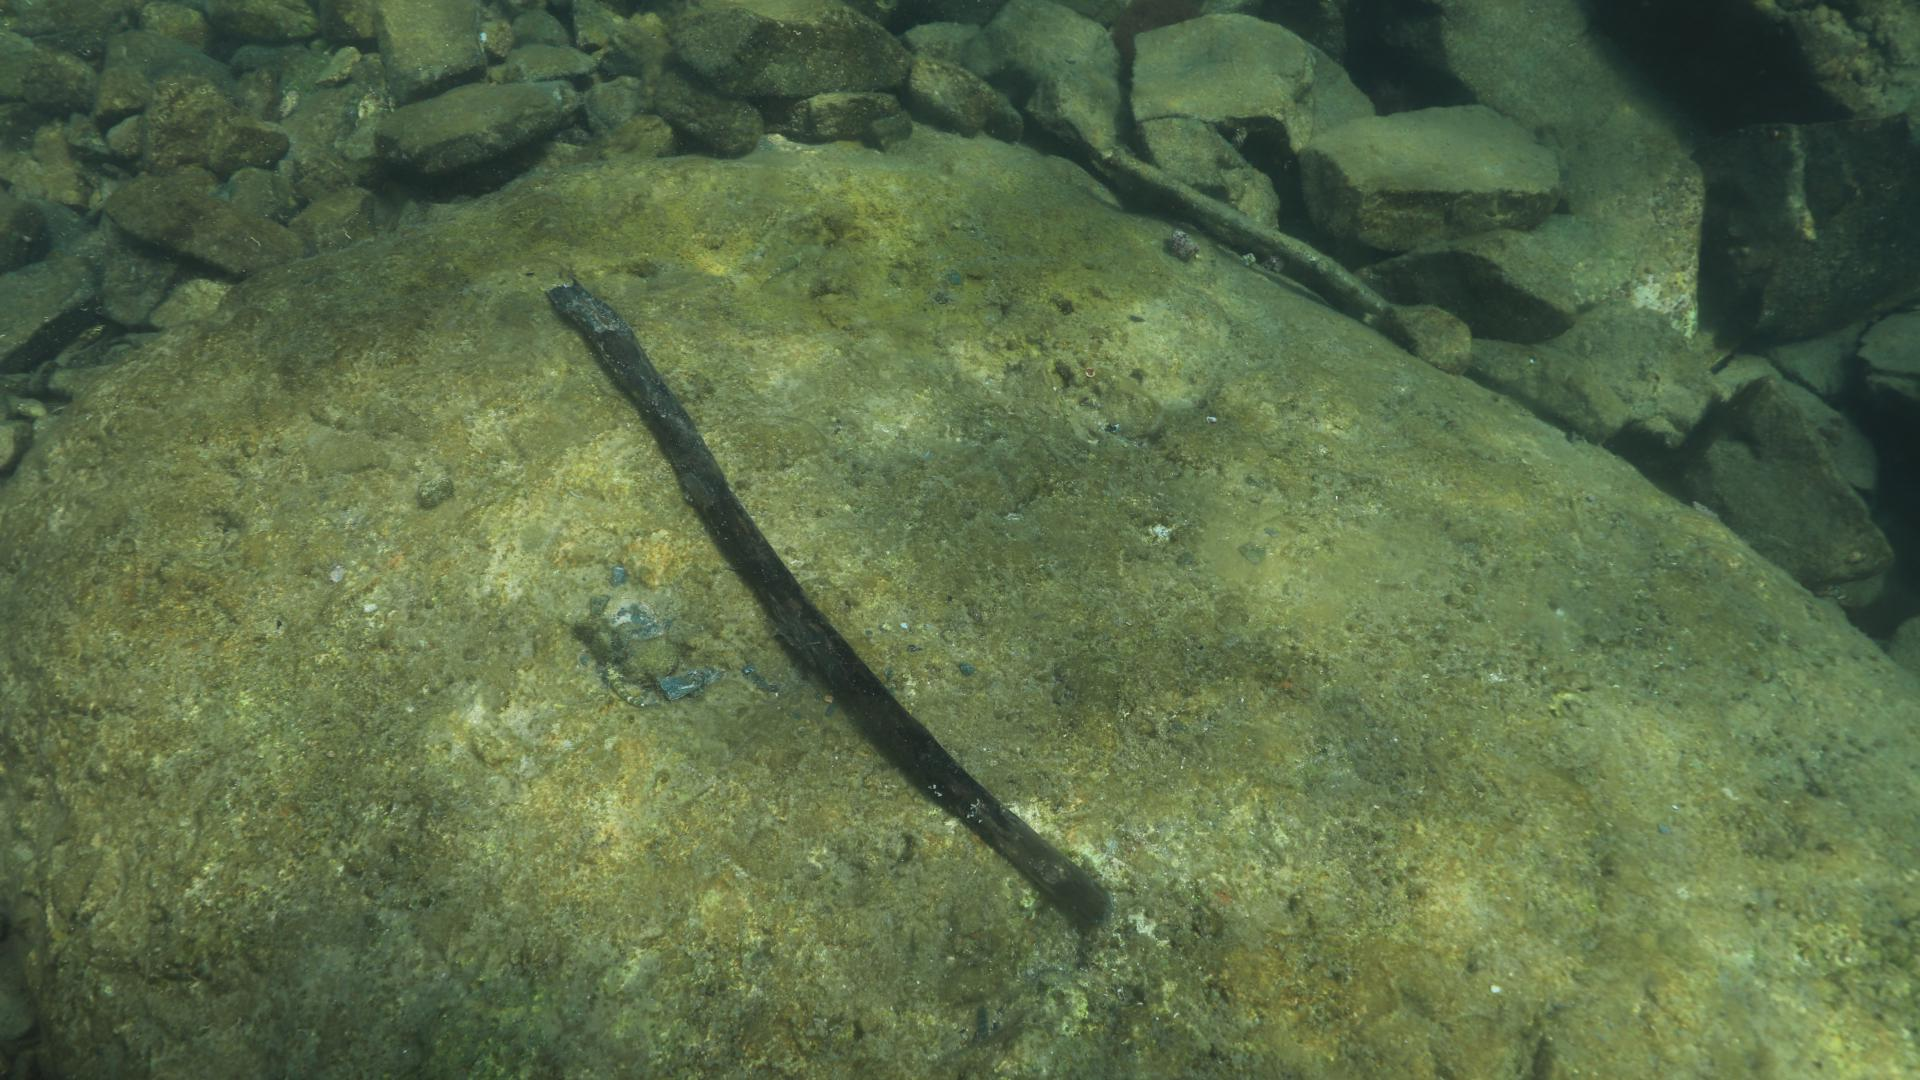wood: (543, 273, 1113, 928)
